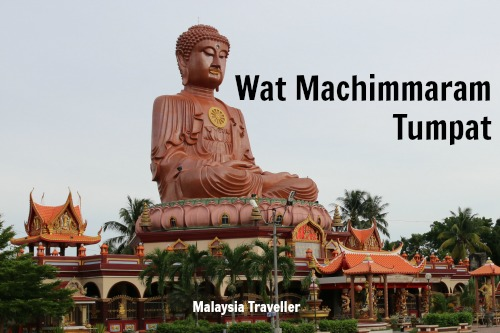Buddhist Temple: (19, 19, 456, 316)
